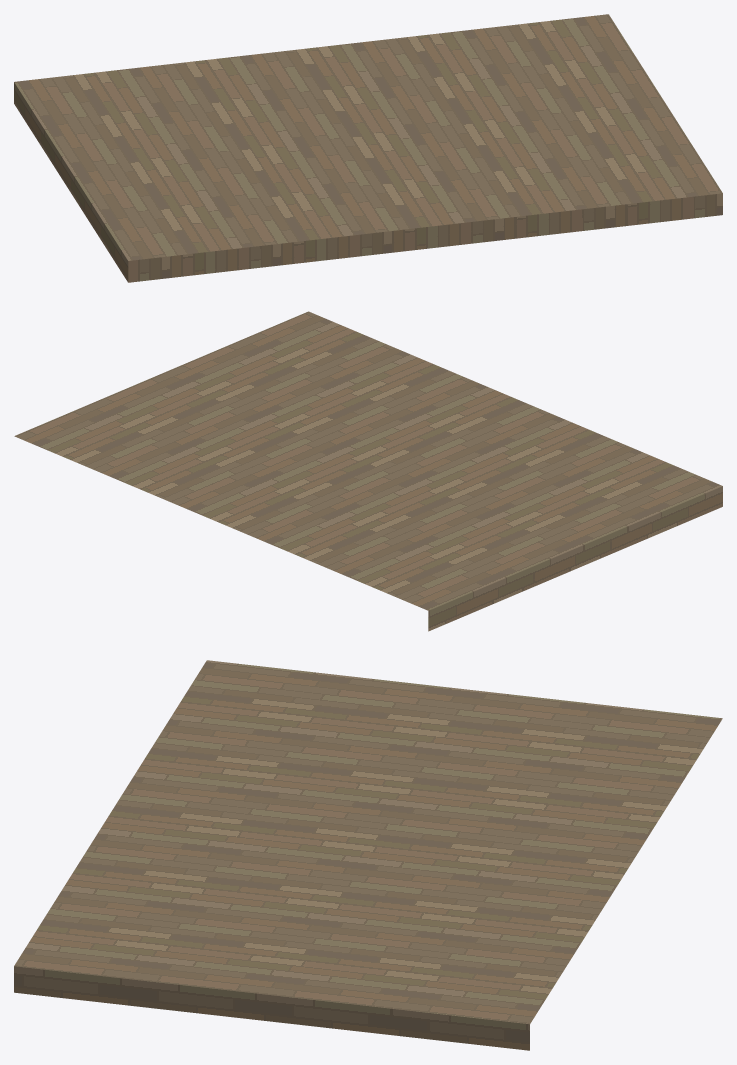
The model's file is kd_connection_world-inner_surface_2_5.glb.
3 views of the same model, one above another, from view 1: azimuth 30°, elevation 25°; view 2: azimuth 150°, elevation 25°; view 3: azimuth 270°, elevation 25° (orthographic). The views are drawn at different scales.
Parts seen in each view (by area): view 1: kd_connection_world-inner_surface_2_5; view 2: kd_connection_world-inner_surface_2_5; view 3: kd_connection_world-inner_surface_2_5.
Boxes of the visible parts, x1,y1,x2,y2 form: kd_connection_world-inner_surface_2_5: (14,14,722,282); kd_connection_world-inner_surface_2_5: (14,311,722,631); kd_connection_world-inner_surface_2_5: (14,660,722,1050).
Bounding box in the file's own units: 54.71 × 1.86 × 45.03.
Materials: 1 (1 with a texture image).
